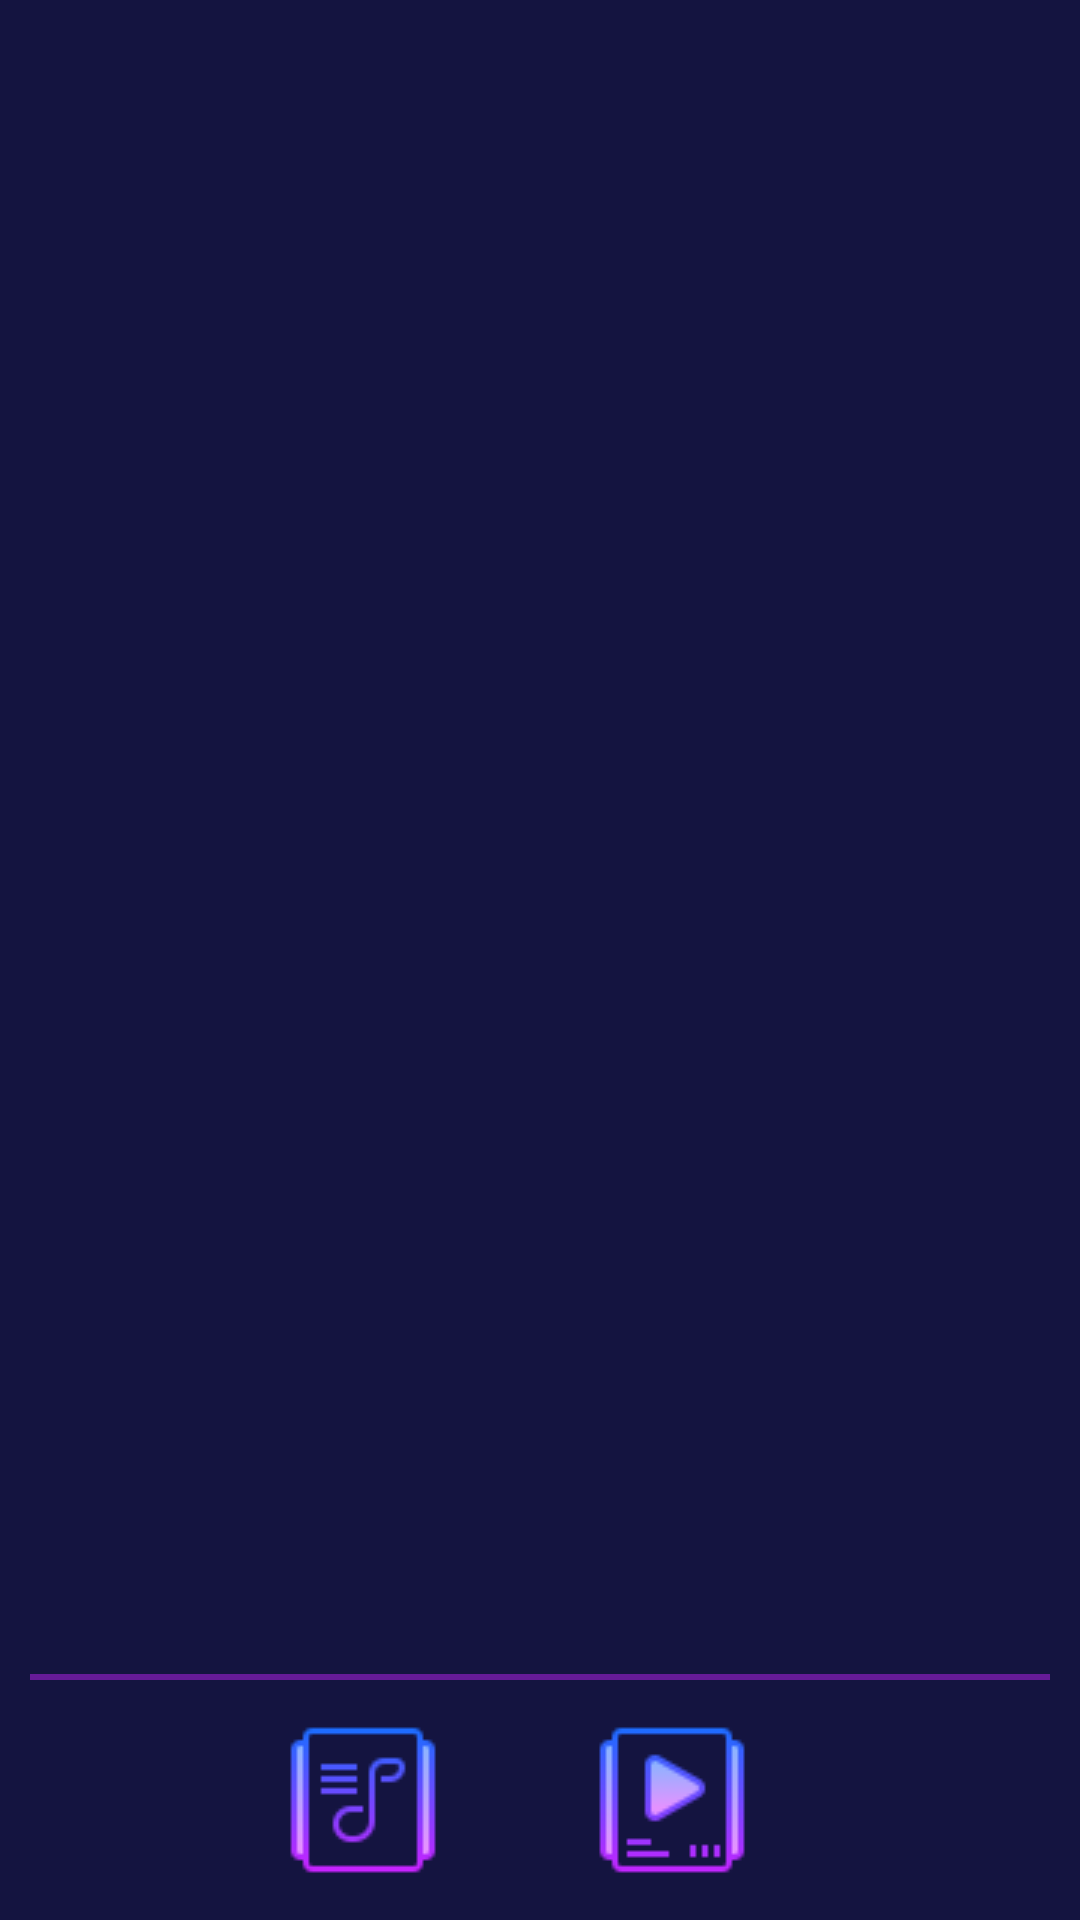

Locate icon controls on the screen. Image size 1080×1920, boxes as (x1,y1,x2,y2).
musiclibrary: (290,1727,436,1873)
videoplaylist: (599,1727,745,1873)
